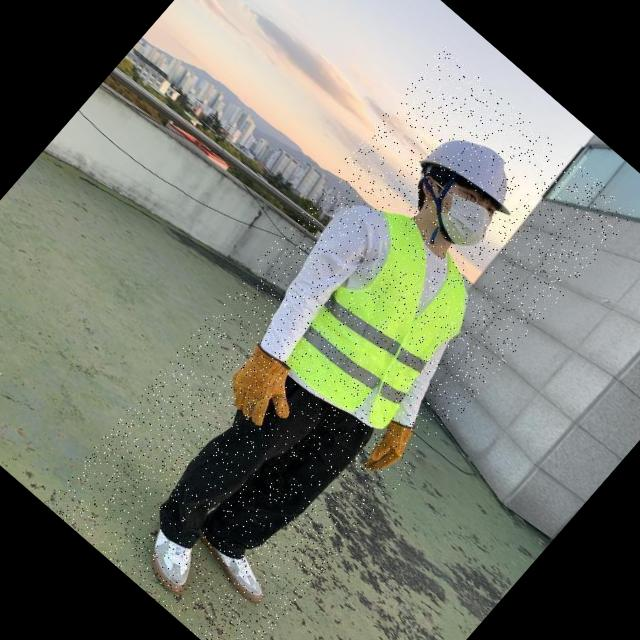hard_hat: (418, 120, 534, 232)
safety_vest: (262, 200, 499, 441)
vehicle: (44, 45, 635, 640)
work_boots: (184, 522, 276, 608), (130, 522, 208, 600)
